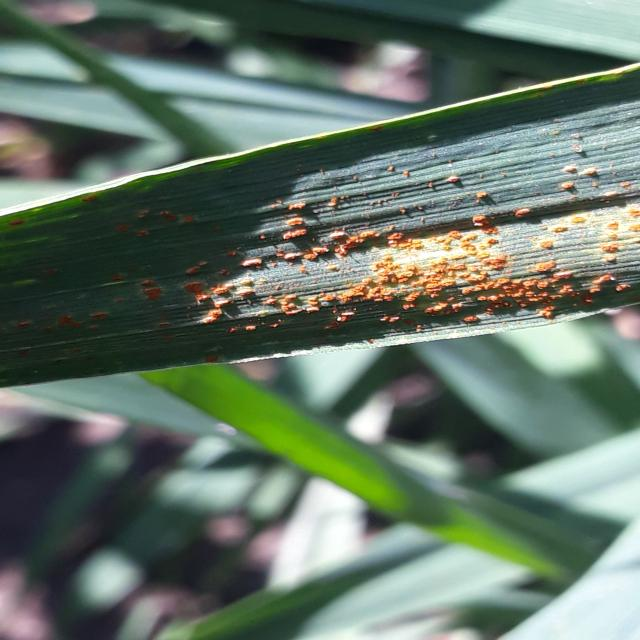orang_rust: (0, 70, 640, 407)
